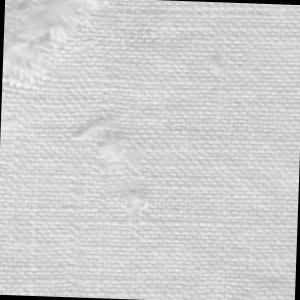Damage: (69, 111, 156, 215), (3, 1, 69, 92)
